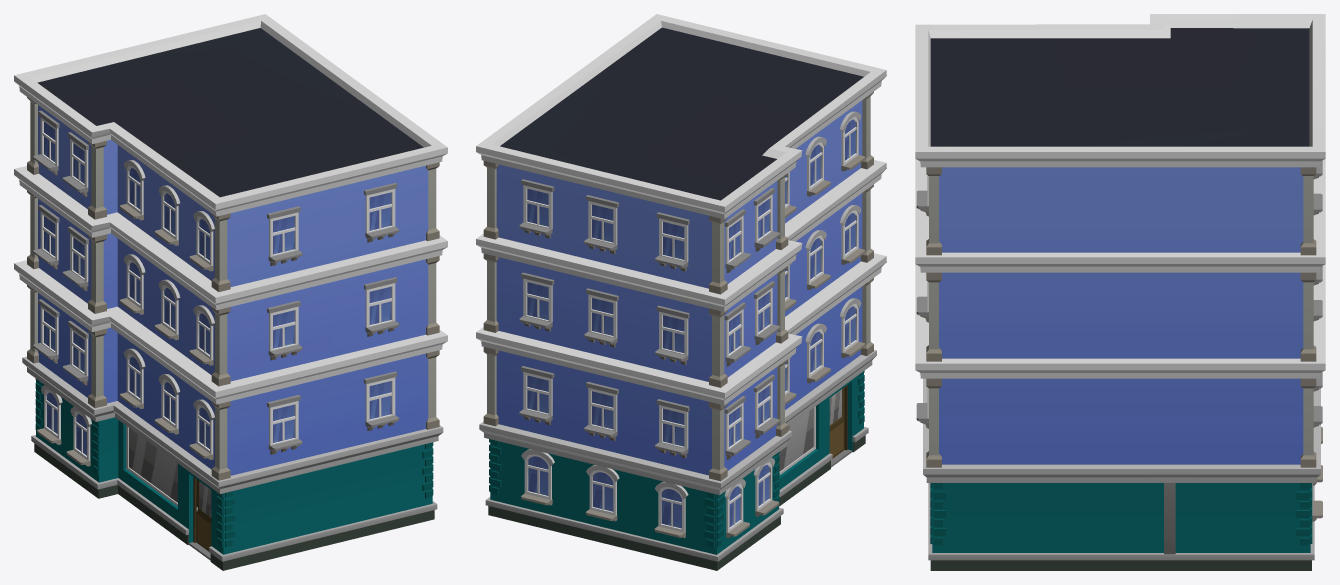
File: Building_1_F.fbx
The picture shows the model from 3 angles, left to right: view 1: azimuth 30°, elevation 25°; view 2: azimuth 150°, elevation 25°; view 3: azimuth 270°, elevation 25°; orthographic projection. The views are drawn at different scales.
Visible parts, largest first — view 1: Building_1_F; view 2: Building_1_F; view 3: Building_1_F.
Part boxes in pixels (x1=…): Building_1_F: x1=14, y1=14, x2=447, y2=570; Building_1_F: x1=476, y1=14, x2=886, y2=570; Building_1_F: x1=915, y1=14, x2=1325, y2=570.
Size of the model in its own units: 841 by 1201 by 1057.
